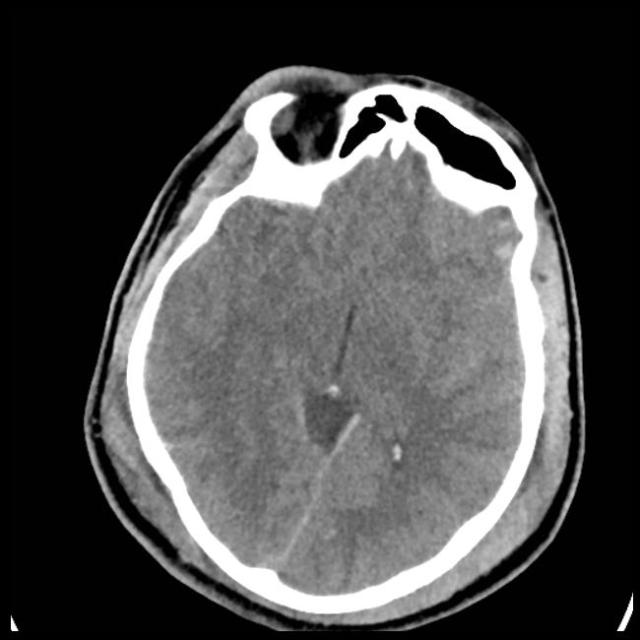lesion: (83, 64, 588, 630)
